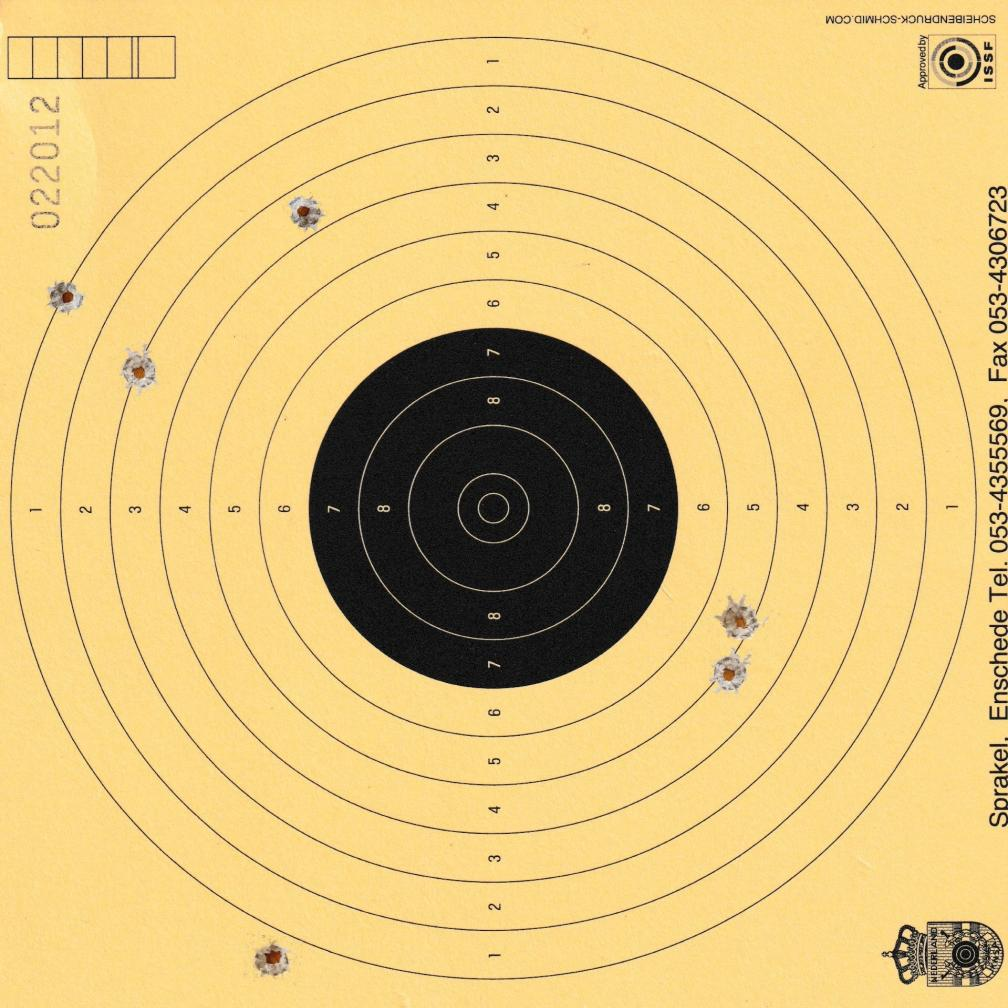0: (247, 936, 296, 982)
1: (46, 276, 87, 318)
3: (115, 342, 165, 396), (286, 190, 325, 235)
5: (712, 590, 772, 645), (704, 645, 755, 698)
Target: (8, 33, 984, 986)
black_contour: (308, 326, 678, 691)
